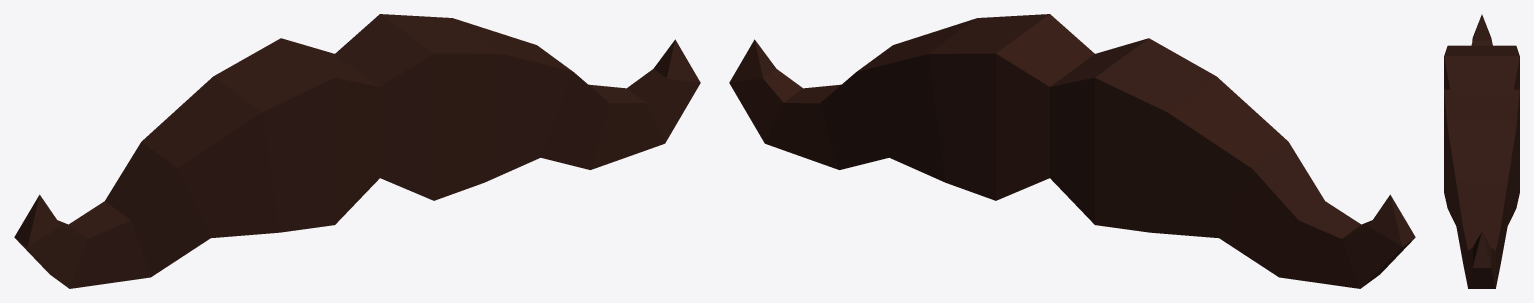
File: Mustache_01.obj
3 views of the same model, side by side, from view 1: azimuth 30°, elevation 25°; view 2: azimuth 150°, elevation 25°; view 3: azimuth 270°, elevation 25° (orthographic). The views are drawn at different scales.
Visible parts, largest first — view 1: Mustache_01_Cube.026; view 2: Mustache_01_Cube.026; view 3: Mustache_01_Cube.026.
Boxes of the visible parts, bbox=[...] form: Mustache_01_Cube.026: bbox=[14, 14, 700, 288]; Mustache_01_Cube.026: bbox=[729, 14, 1415, 288]; Mustache_01_Cube.026: bbox=[1444, 14, 1519, 288].
Bounding box in the file's own units: 42.89 × 10.25 × 5.97.
